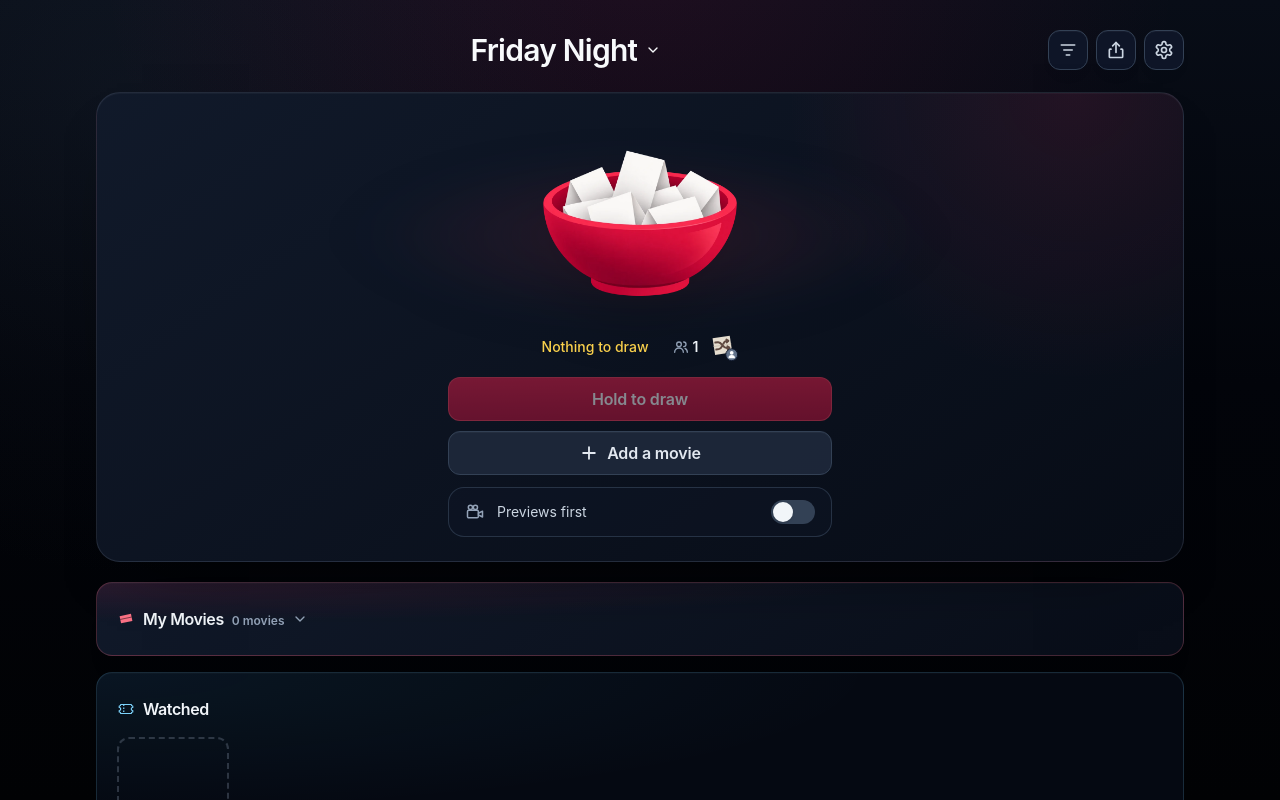
Test: BowlDashboard bowl picker › disables creation at the owned-bowl limit and explains why
The image size is (1280, 800).
What coordinates should you click on to do the following:
click the button with aria-label "switch bowl"
I would click on:
 (566, 50)
Its box is [462,28,669,72].
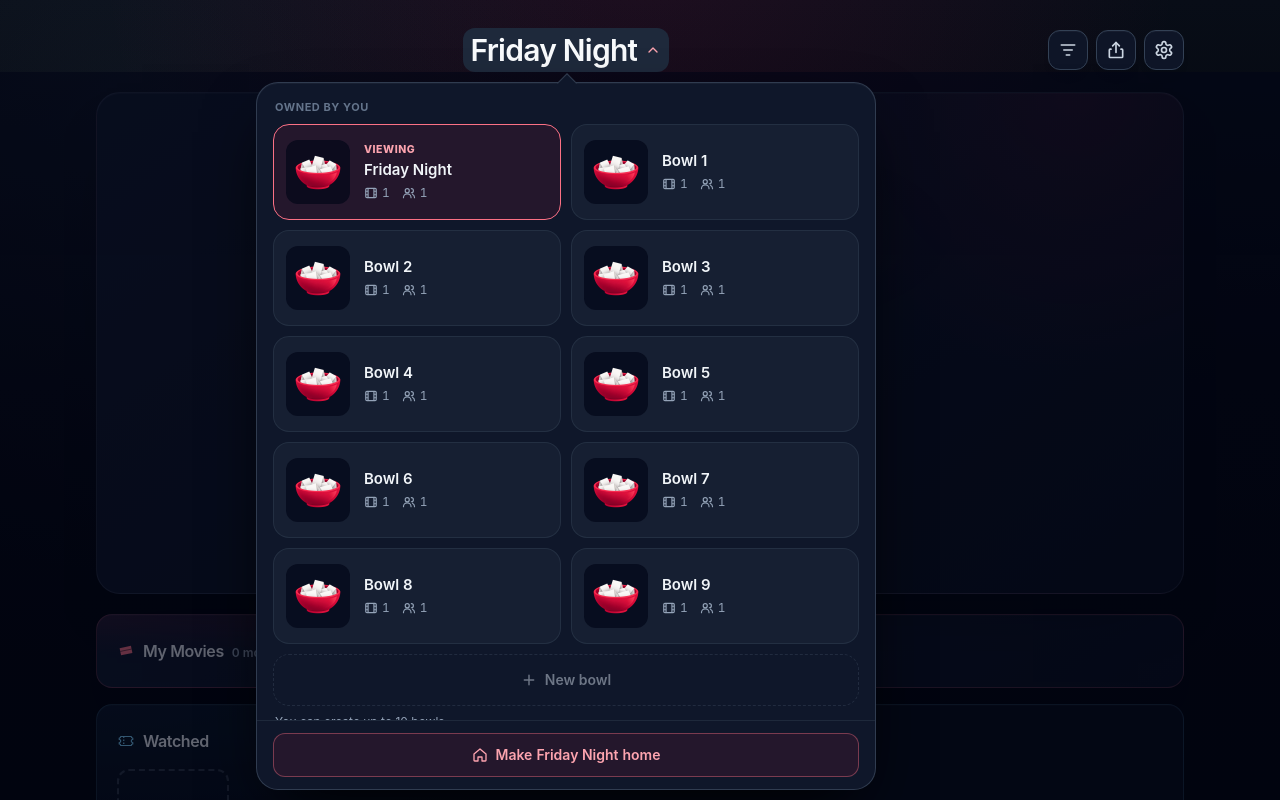
Expected: the button with aria-label "create new bowl" is disabled, [273,654,859,706]
